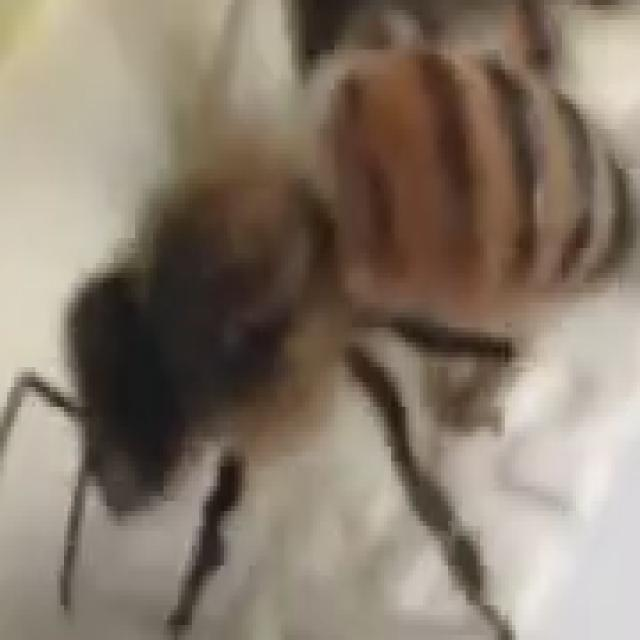honeybee: (43, 53, 615, 560)
